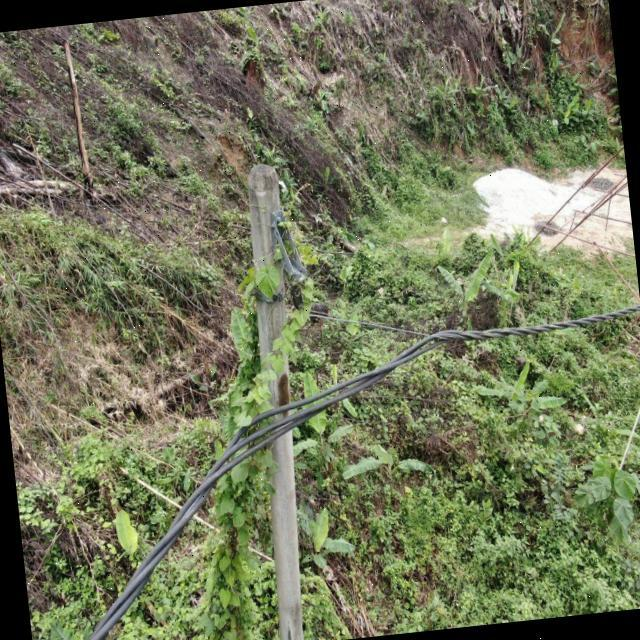critical vegetation: (152, 225, 355, 640)
